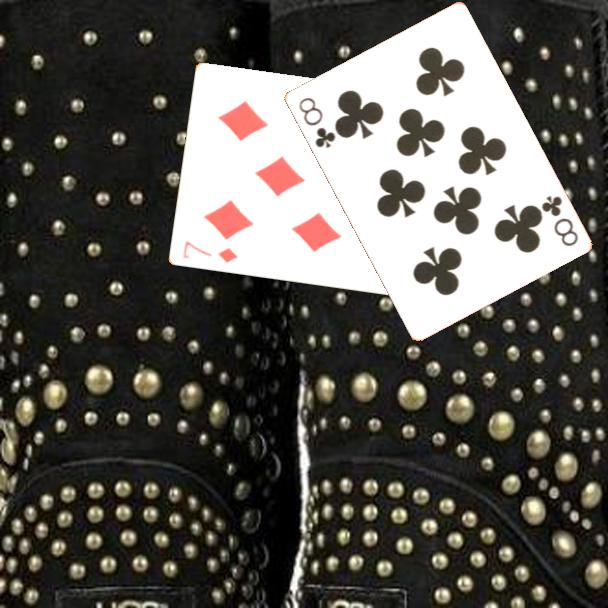c08: (537, 192, 581, 249), (295, 93, 338, 151)
d07: (179, 238, 240, 266)
